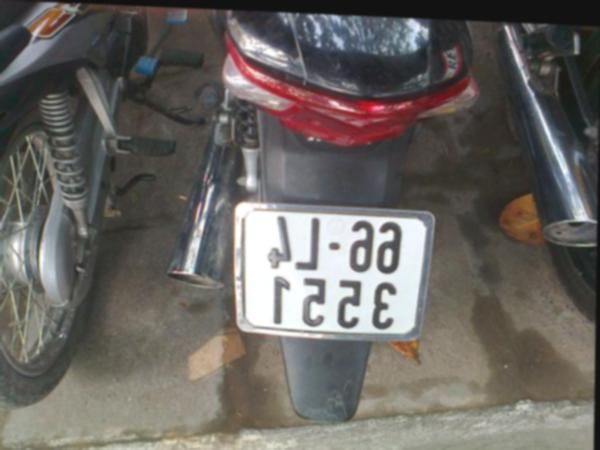License_Plate: (231, 203, 425, 345)
